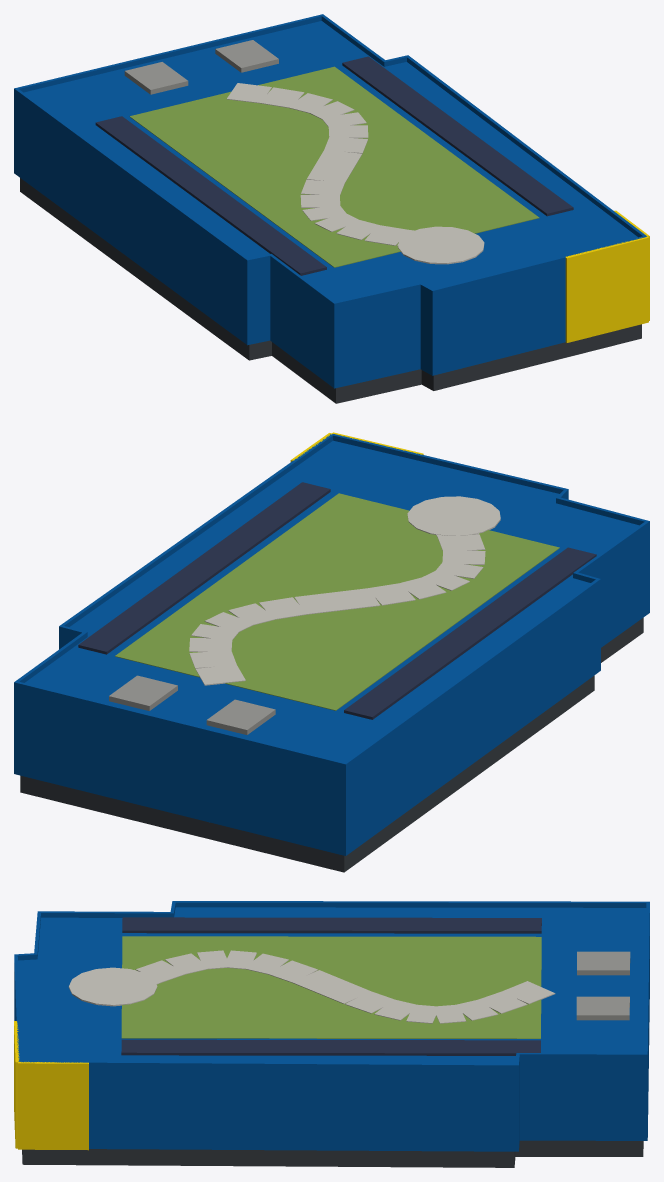
File: ikea.glb
The picture shows the model from 3 angles, top to bottom: view 1: azimuth 30°, elevation 25°; view 2: azimuth 150°, elevation 25°; view 3: azimuth 270°, elevation 25°; orthographic projection. The views are drawn at different scales.
Parts seen in each view (by area): view 1: ikea; view 2: ikea; view 3: ikea.
Boxes of the visible parts, x1,y1,x2,y2 form: ikea: (14,14,649,403); ikea: (14,432,649,872); ikea: (14,901,649,1167).
Bounding box in the file's own units: 87.8 × 26 × 144.
